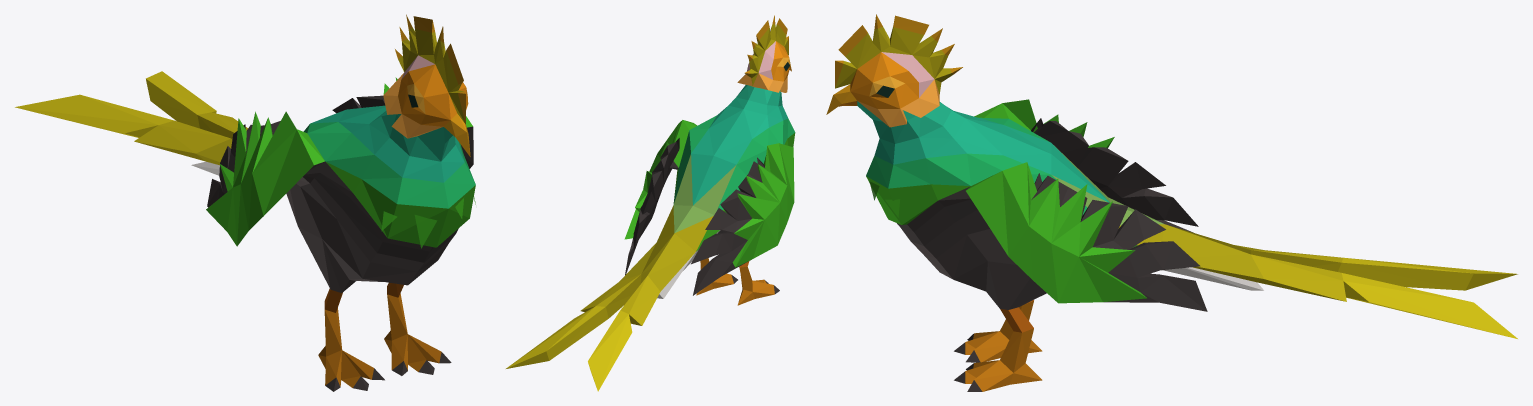
The model's file is quetzal-network.gltf.
3 views of the same model, side by side, from view 1: azimuth 30°, elevation 25°; view 2: azimuth 150°, elevation 25°; view 3: azimuth 270°, elevation 25° (orthographic). The views are drawn at different scales.
Size of the model in its own units: 128 by 226 by 403.
2 materials, 2 textured.
